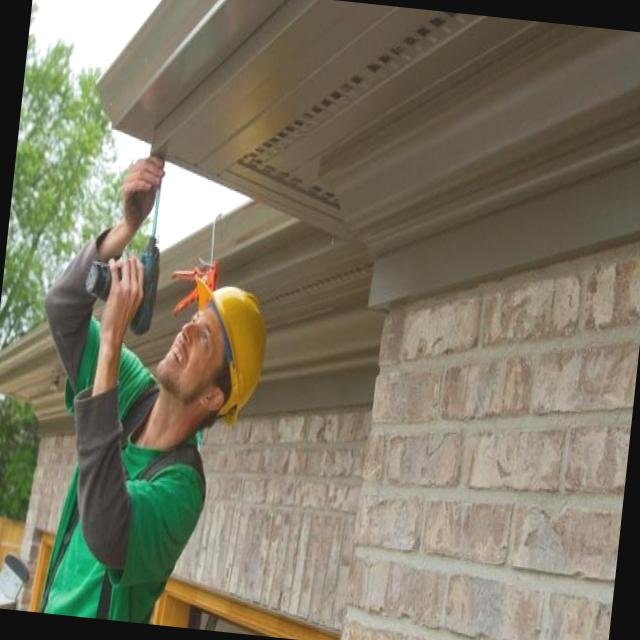helmet: (176, 268, 274, 440)
no-vest: (51, 380, 208, 624)
